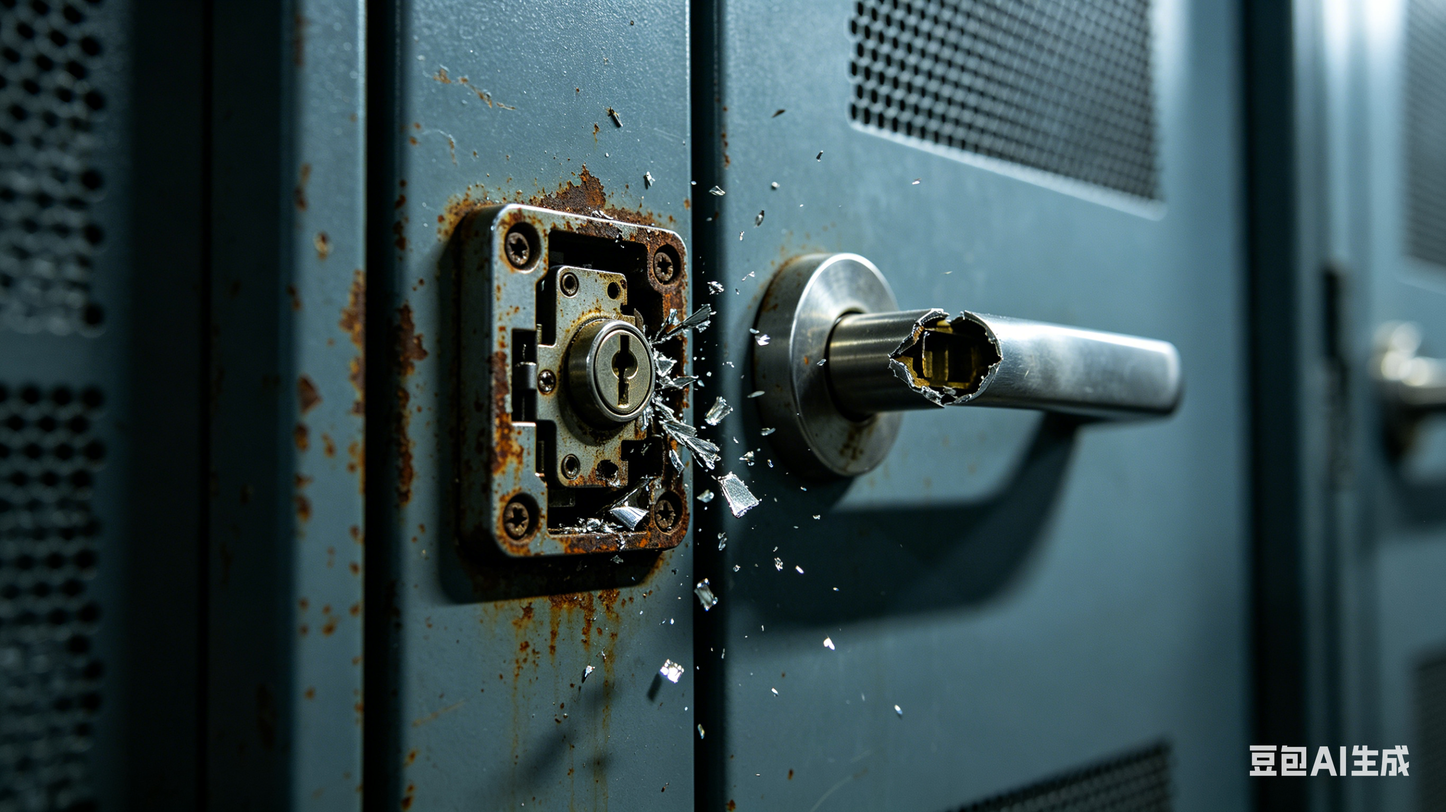BadLock: (496, 211, 692, 573), (836, 301, 1012, 411)
